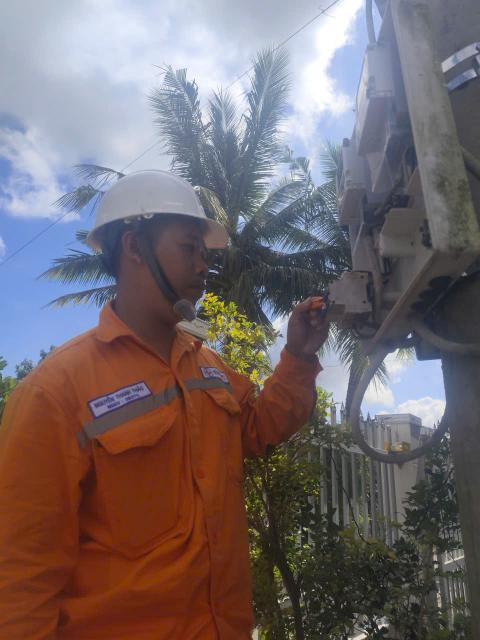helmet: (76, 166, 243, 260)
